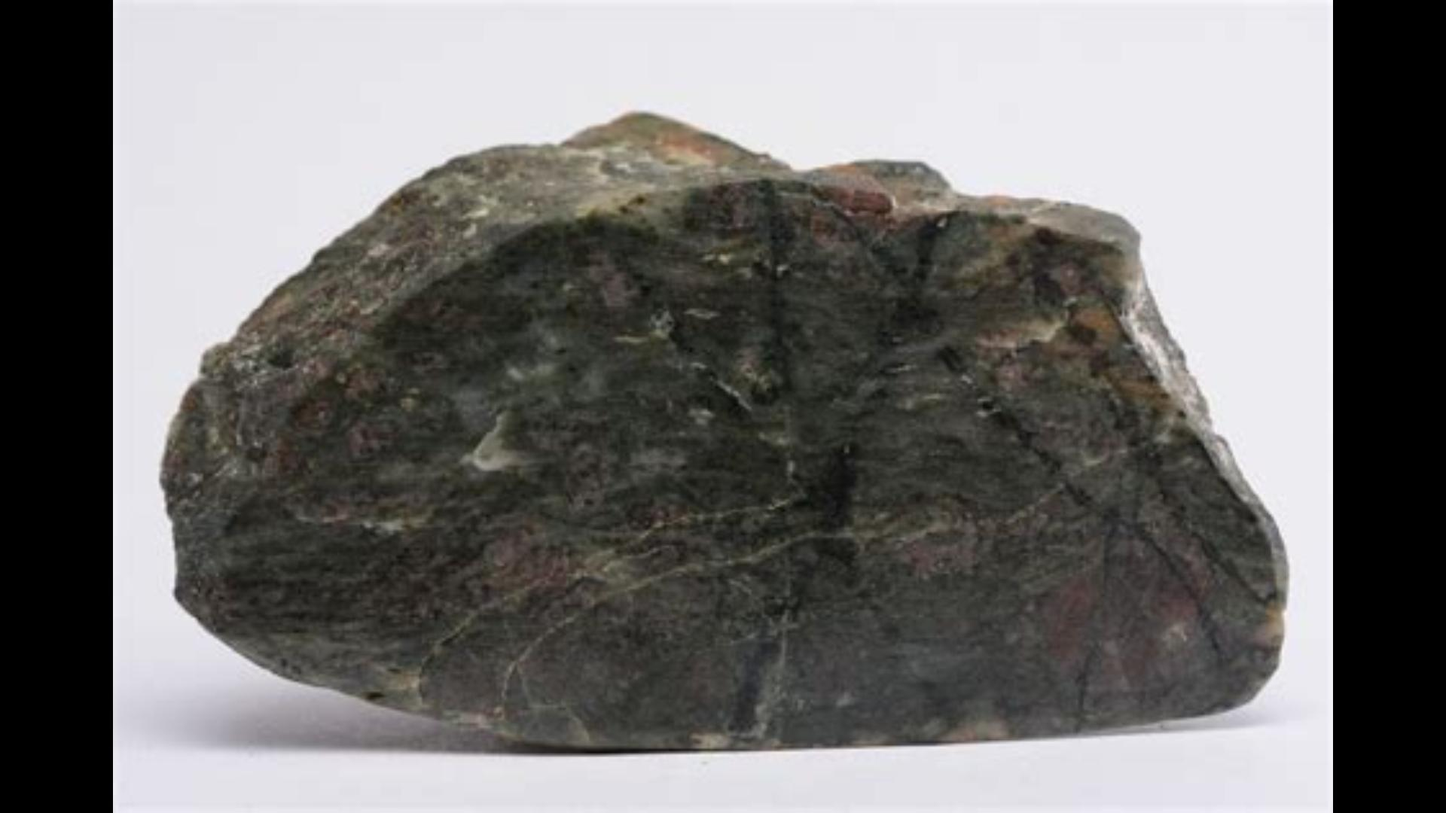rock: (162, 116, 1282, 738)
